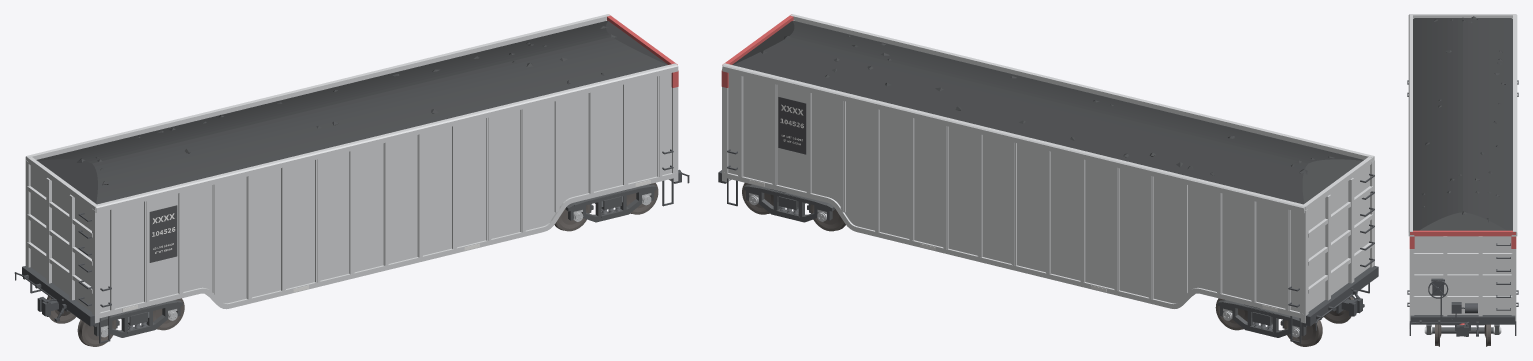
The model's file is Rail_Gondola_Coal.glb.
The picture shows the model from 3 angles, left to right: view 1: azimuth 30°, elevation 25°; view 2: azimuth 150°, elevation 25°; view 3: azimuth 270°, elevation 25°; orthographic projection. The views are drawn at different scales.
Visible parts, largest first — view 1: side_sheets, coal_load, truck_B_side_frames, underframe, truck_B_wheels, mark_panels, rotary_end_chord, reporting_marks; view 2: side_sheets, coal_load, truck_B_side_frames, underframe, truck_B_wheels, mark_panels, rotary_end_chord, reporting_marks; view 3: coal_load, side_sheets, underframe, rotary_end_chord, truck_B_side_frames, truck_B_wheels.
Boxes of the visible parts, x1,y1,x2,y2 form: side_sheets: [25, 14, 678, 323]; coal_load: [36, 21, 667, 204]; truck_B_side_frames: [69, 184, 656, 337]; underframe: [14, 149, 689, 343]; truck_B_wheels: [46, 182, 658, 346]; mark_panels: [149, 205, 177, 262]; rotary_end_chord: [607, 14, 678, 87]; reporting_marks: [122, 180, 650, 311]; side_sheets: [722, 14, 1374, 323]; coal_load: [732, 21, 1363, 204]; truck_B_side_frames: [744, 184, 1331, 337]; underframe: [718, 149, 1378, 343]; truck_B_wheels: [742, 183, 1353, 346]; mark_panels: [778, 97, 806, 154]; rotary_end_chord: [721, 14, 793, 87]; reporting_marks: [749, 104, 1277, 311]; coal_load: [1413, 16, 1512, 230]; side_sheets: [1408, 14, 1517, 321]; underframe: [1407, 80, 1518, 336]; rotary_end_chord: [1409, 230, 1516, 324]; truck_B_side_frames: [1426, 324, 1499, 334]; truck_B_wheels: [1435, 324, 1490, 346].
Bounding box in the file's own units: 324 × 84.6 × 65.42.
